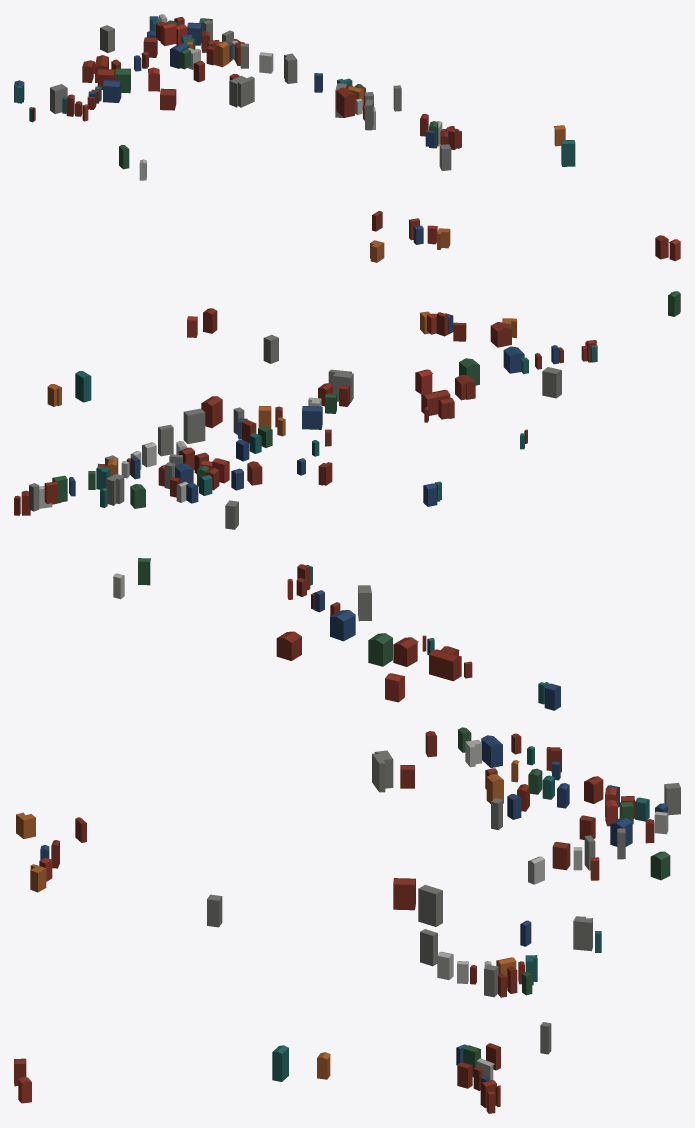
Rendered from near-16-54729-29746.56baa1d5.glb.
3 renders of one model, top to bottom at view 1: azimuth 30°, elevation 25°; view 2: azimuth 150°, elevation 25°; view 3: azimuth 270°, elevation 25°, orthographic. The views are drawn at different scales.
Size of the model in its own units: 596 by 243 by 544.
